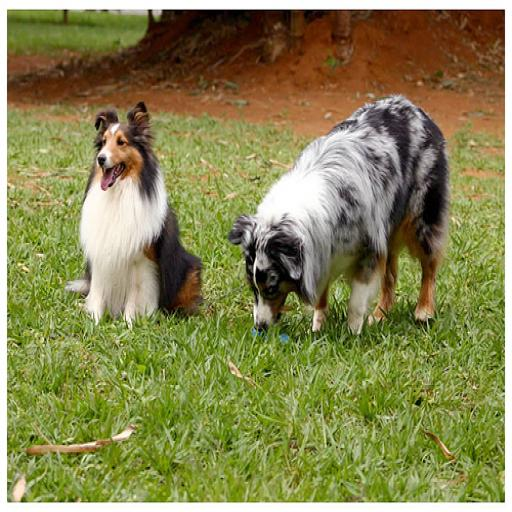dog_face: (227, 221, 312, 331), (89, 102, 152, 192)
